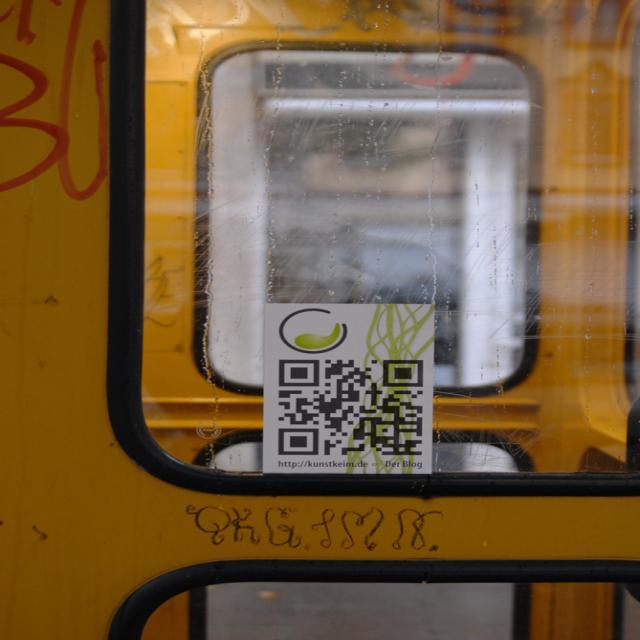qrcode: (279, 360, 424, 456)
